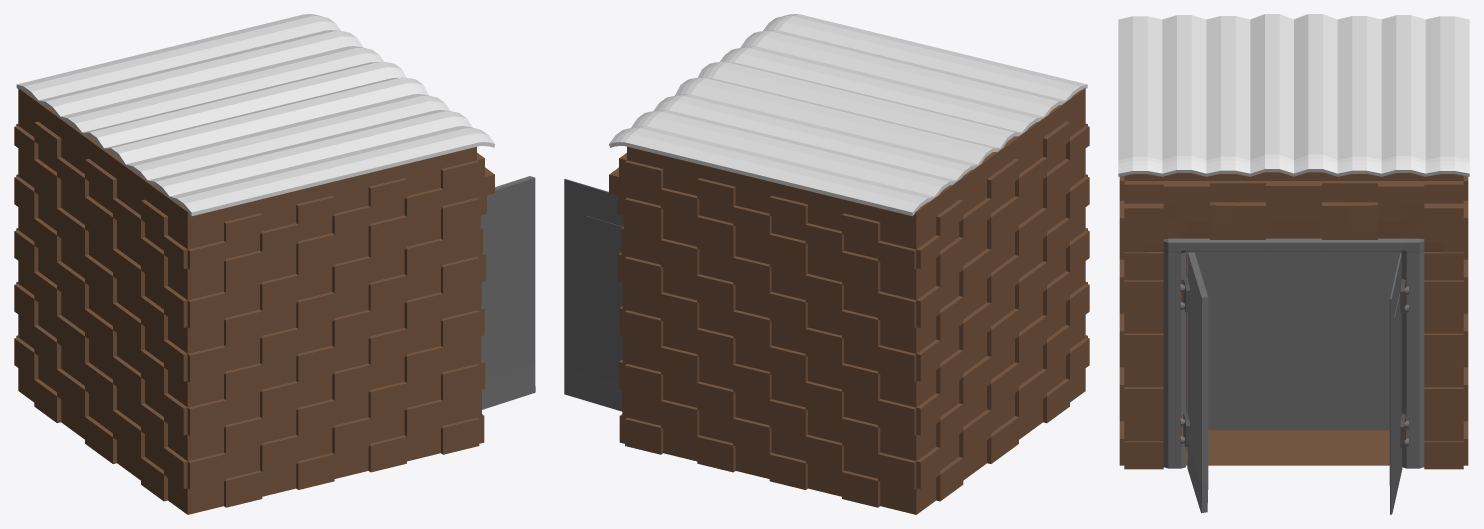
Rendered from garaz 1.fbx.
3 views of the same model, side by side, from view 1: azimuth 30°, elevation 25°; view 2: azimuth 150°, elevation 25°; view 3: azimuth 270°, elevation 25° (orthographic).
Visible parts, largest first — view 1: Cube.004, Cube.003, Cube.011; view 2: Cube.004, Cube.003, Cube.012; view 3: Cube.004, Cube.003, Cube.011, Cube.012, Cube.002.
Boxes of the visible parts, left/top/right/bottom form: Cube.004: left=14, top=88, right=494, bottom=514; Cube.003: left=16, top=14, right=494, bottom=216; Cube.011: left=480, top=176, right=535, bottom=409; Cube.004: left=609, top=88, right=1089, bottom=514; Cube.003: left=609, top=14, right=1087, bottom=216; Cube.012: left=564, top=178, right=623, bottom=411; Cube.004: left=1119, top=172, right=1468, bottom=469; Cube.003: left=1118, top=14, right=1469, bottom=176; Cube.011: left=1187, top=252, right=1208, bottom=513; Cube.012: left=1389, top=253, right=1402, bottom=514; Cube.002: left=1183, top=277, right=1189, bottom=446.
Bounding box in the file's own units: 271 × 205 × 210.
